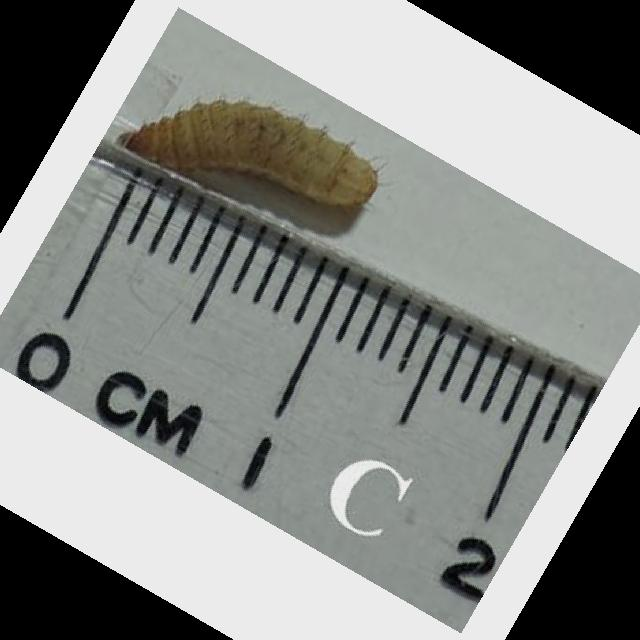Maggot: (120, 93, 386, 212)
